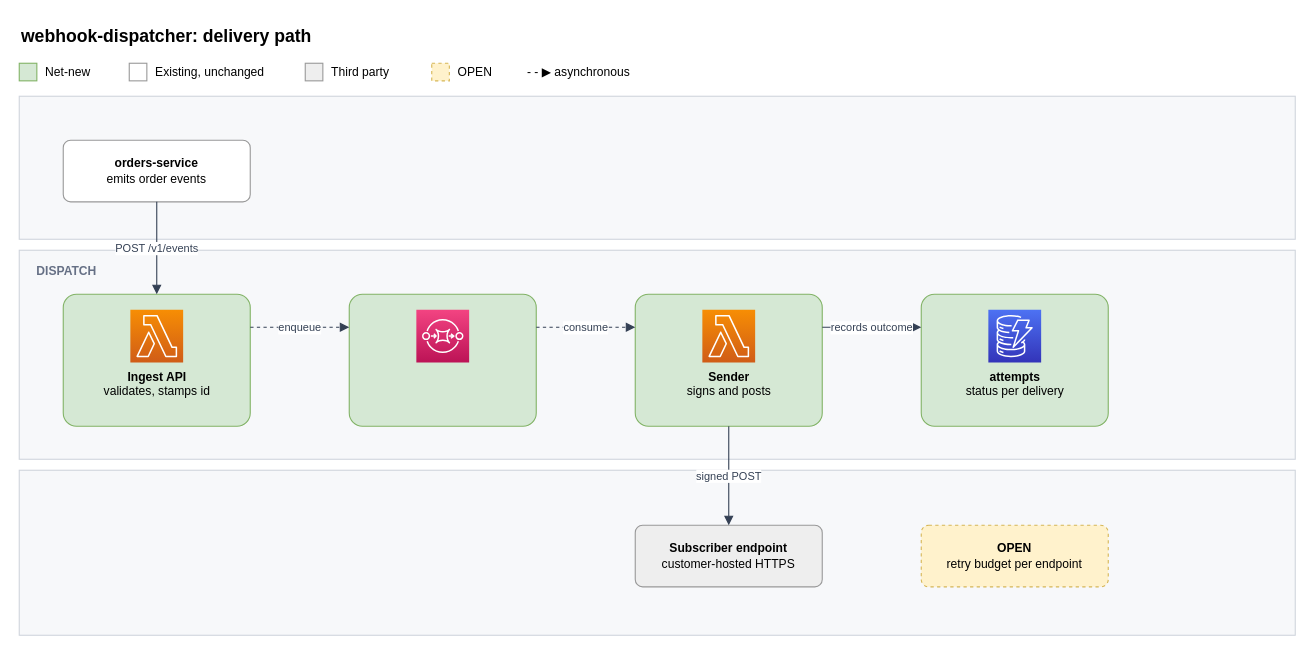
This 1315x655 diagram has some shape labels left out. Each missing label, with the box of its shape:
deliveries one message per target: (415, 309, 469, 362)
PRODUCERS: (18, 95, 1295, 239)
RECEIVERS: (18, 469, 1295, 635)
